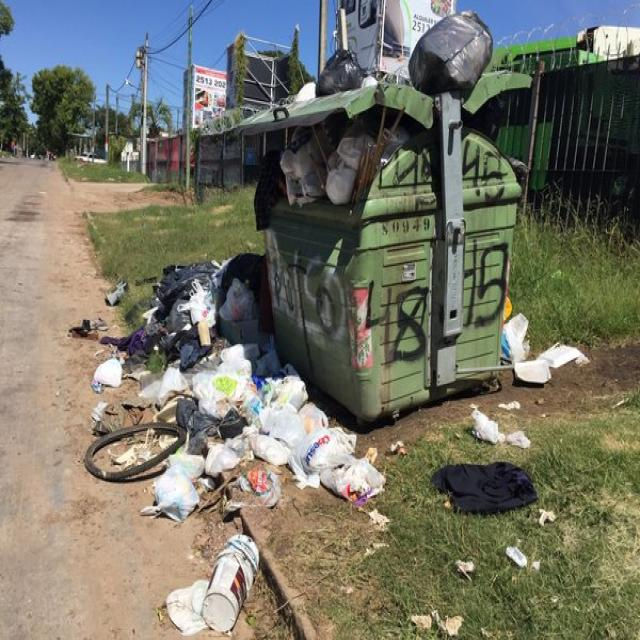garbage: (70, 255, 288, 516), (243, 115, 407, 220), (289, 369, 389, 512), (156, 529, 269, 636), (505, 303, 591, 394), (411, 8, 499, 96), (428, 458, 544, 516), (314, 39, 376, 102)
